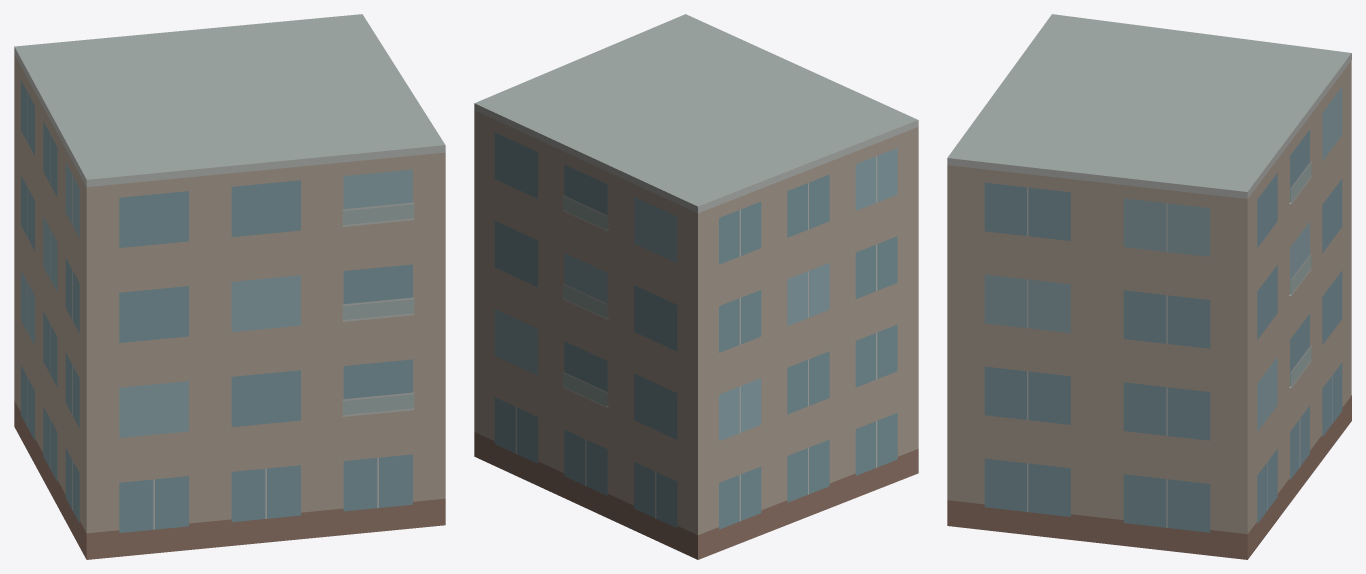
File: survey-upis-32958064.glb
3 renders of one model, left to right at view 1: azimuth 30°, elevation 25°; view 2: azimuth 150°, elevation 25°; view 3: azimuth 270°, elevation 25°, orthographic. The views are drawn at different scales.
Visible parts, largest first — view 1: survey-upis-32958064.tmp; view 2: survey-upis-32958064.tmp; view 3: survey-upis-32958064.tmp.
Boxes of the visible parts, bbox=[...] form: survey-upis-32958064.tmp: bbox=[14, 14, 445, 559]; survey-upis-32958064.tmp: bbox=[474, 14, 918, 559]; survey-upis-32958064.tmp: bbox=[947, 14, 1351, 559].
Size of the model in its own units: 13.08 by 12.6 by 12.57.
